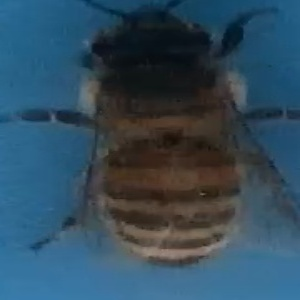bee: (18, 1, 295, 271)
